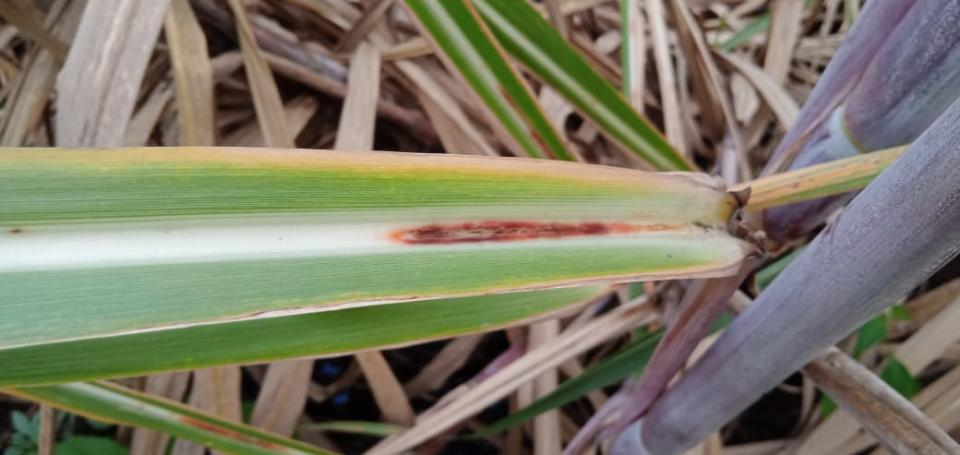RedRot: (377, 215, 691, 248)
Yellow: (196, 260, 744, 320), (1, 146, 653, 185)
